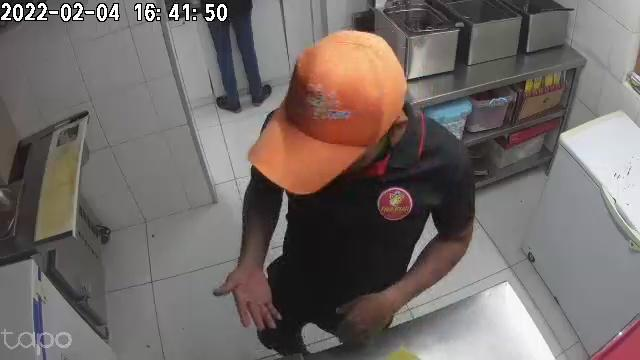no_gloves: (216, 245, 281, 330)
